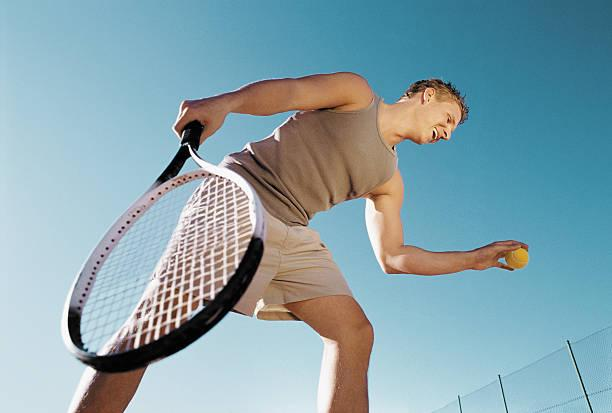ball_tennis: (506, 247, 529, 269)
